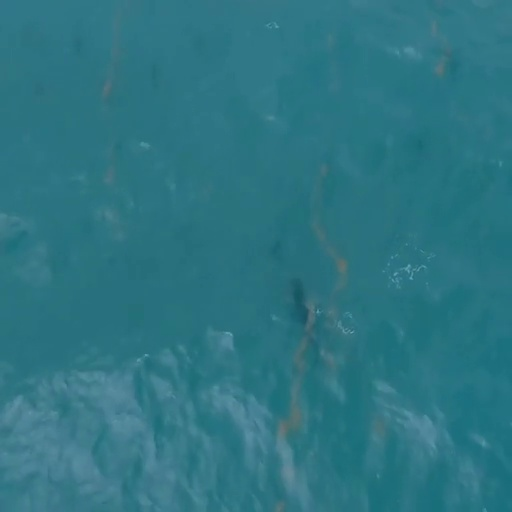shark: (283, 276, 323, 350)
